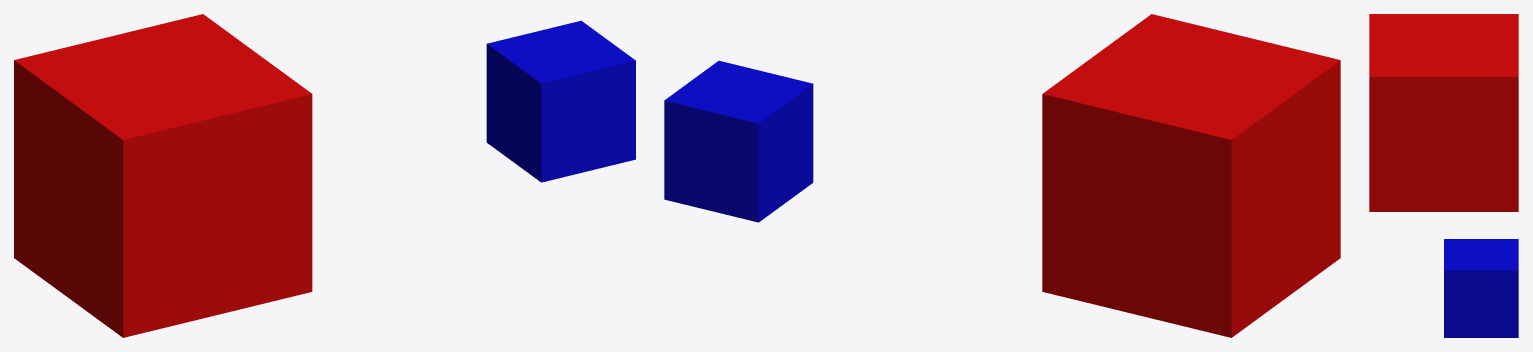
Rendered from color_vertex.obj.
3 renders of one model, left to right at view 1: azimuth 30°, elevation 25°; view 2: azimuth 150°, elevation 25°; view 3: azimuth 270°, elevation 25°, orthographic. The views are drawn at different scales.
Parts seen in each view (by area): view 1: cube0, cube1; view 2: cube0, cube1; view 3: cube0, cube1.
Part boxes in pixels (box(x1,y1,x2,y2)): cube0: box(14, 14, 312, 337); cube1: box(486, 20, 635, 182); cube0: box(1042, 14, 1340, 337); cube1: box(664, 60, 813, 222); cube0: box(1369, 14, 1518, 211); cube1: box(1444, 239, 1518, 337).
Bounding box in the file's own units: 6 × 2 × 2.
